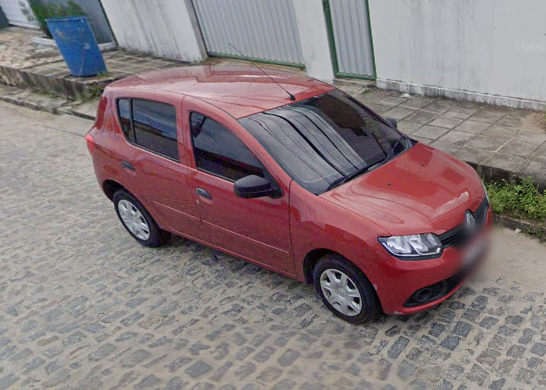car: (77, 40, 511, 335)
